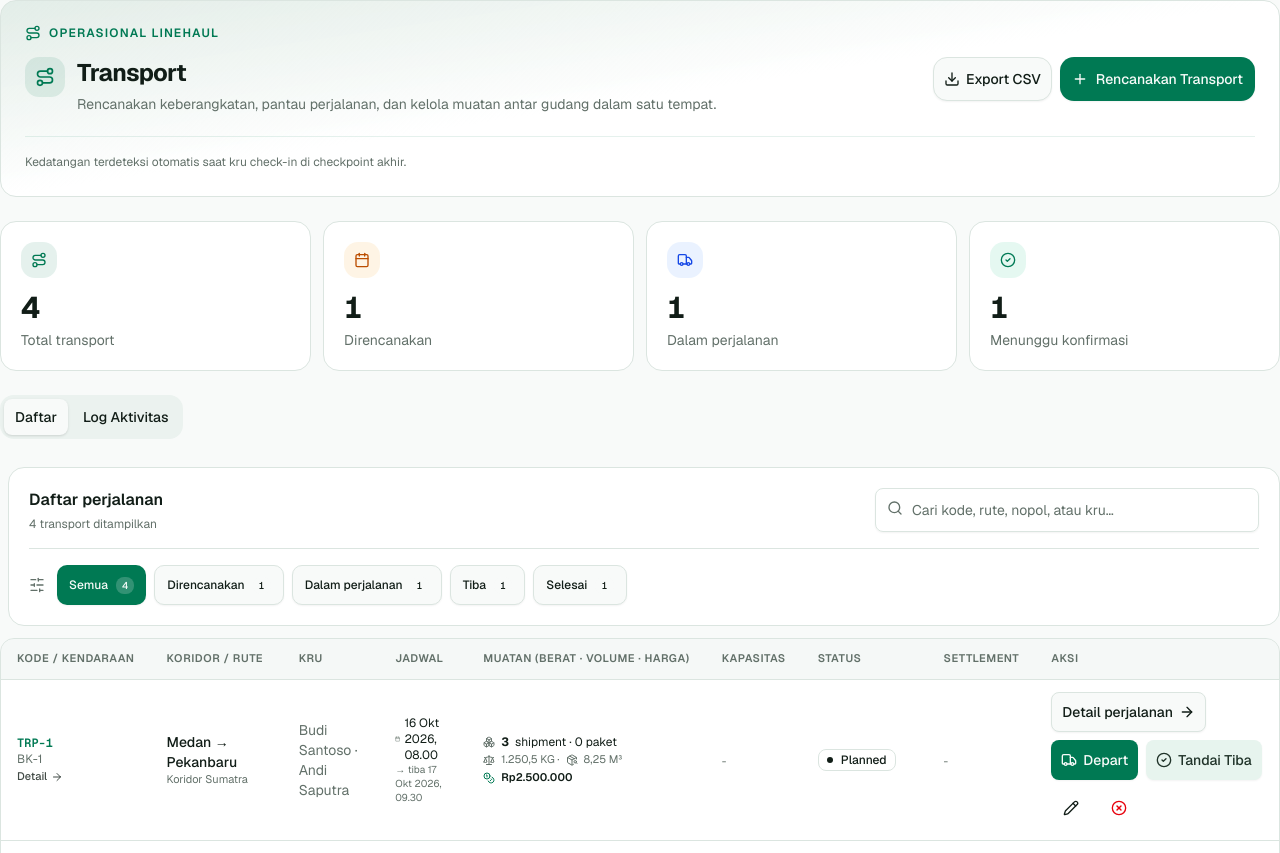
Test: responsive transports with the real DataTable › filters Dalam perjalanan and resets both search and status
The image size is (1280, 853).
Click the button "Dalam perjalanan 1": [367, 585] box [292,565,442,605]
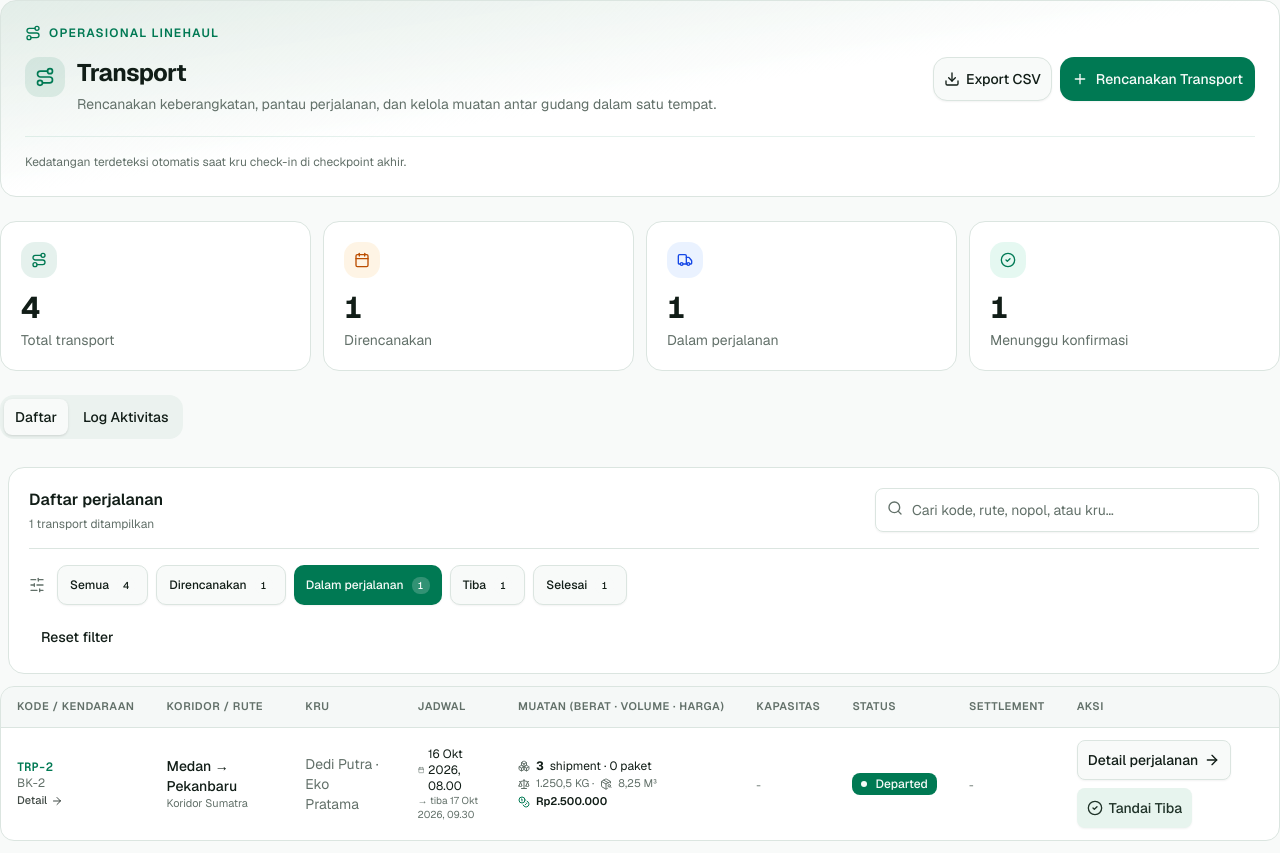
In the field named "Cari transport": [1067, 510] box [875,488,1259,532], type "Dedi"
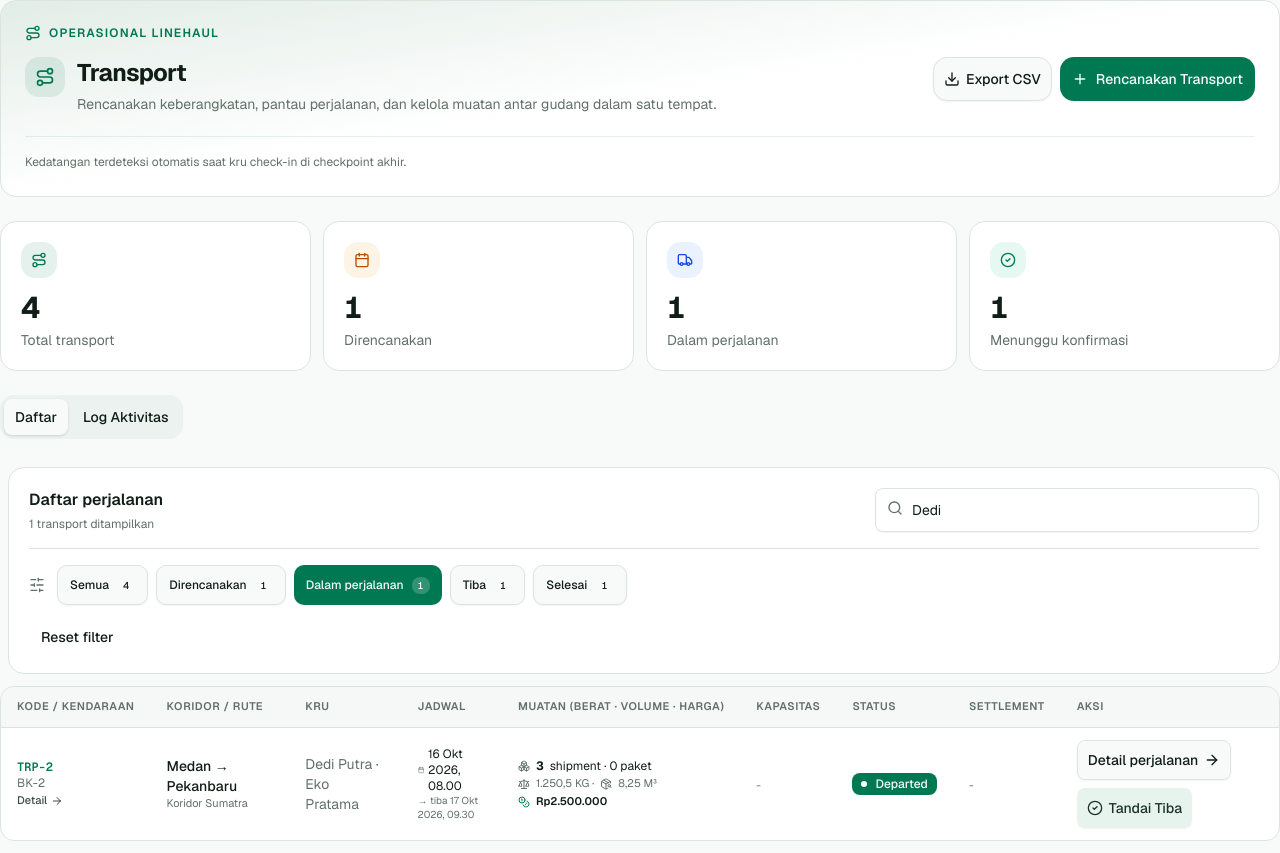
Expected: the button "Dalam perjalanan 1" is pressed, [294,565,442,605]
Click the button "Reset filter": [77, 637] box [29,621,125,653]
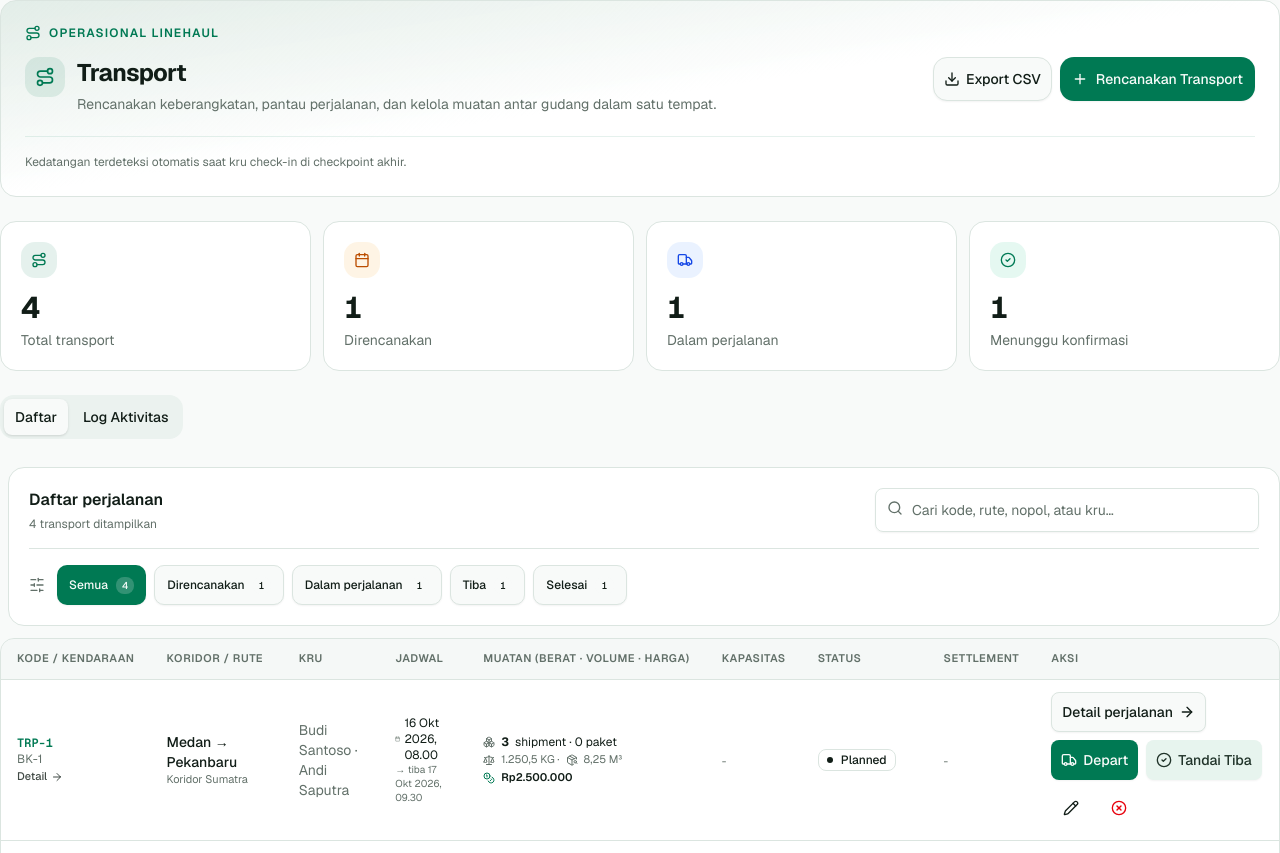
Expected: the field named "Cari transport" is empty, [875,488,1259,532]
Expected: the button "Reset filter" is gone
